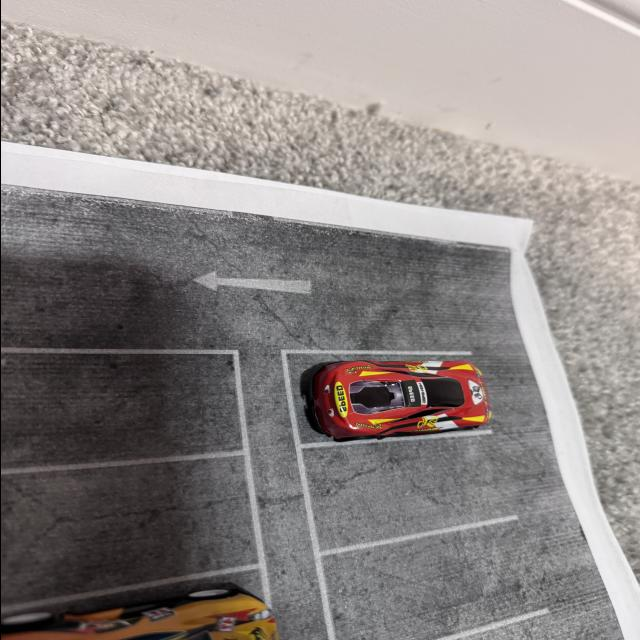Car: (272, 341, 518, 474)
